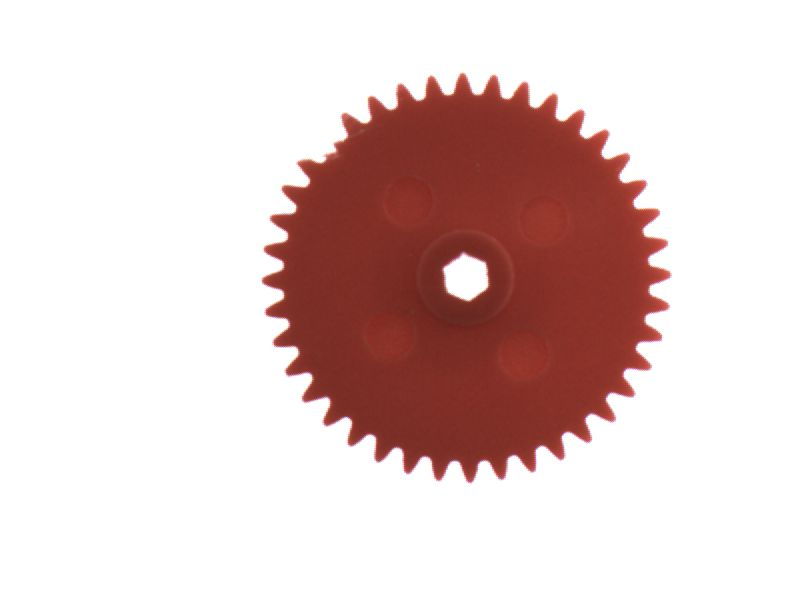defect_lack: (303, 116, 352, 173)
